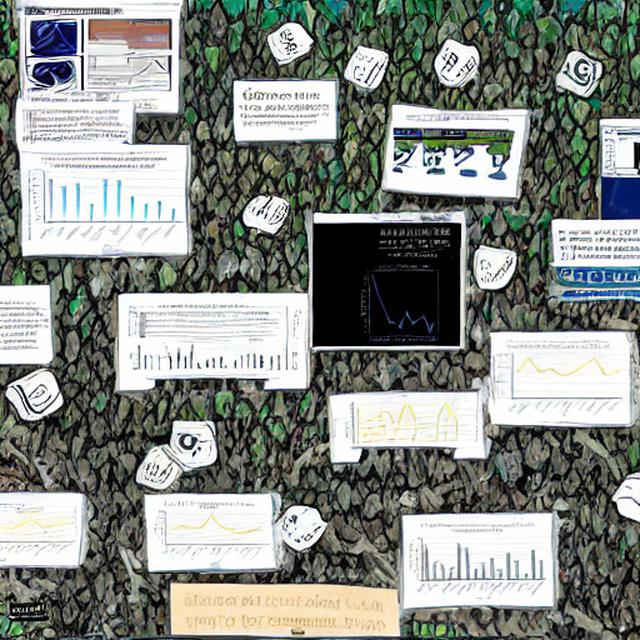Graph: (25, 154, 183, 249), (406, 519, 549, 604), (492, 343, 626, 422), (345, 260, 460, 346), (150, 501, 268, 566), (158, 338, 240, 376)
